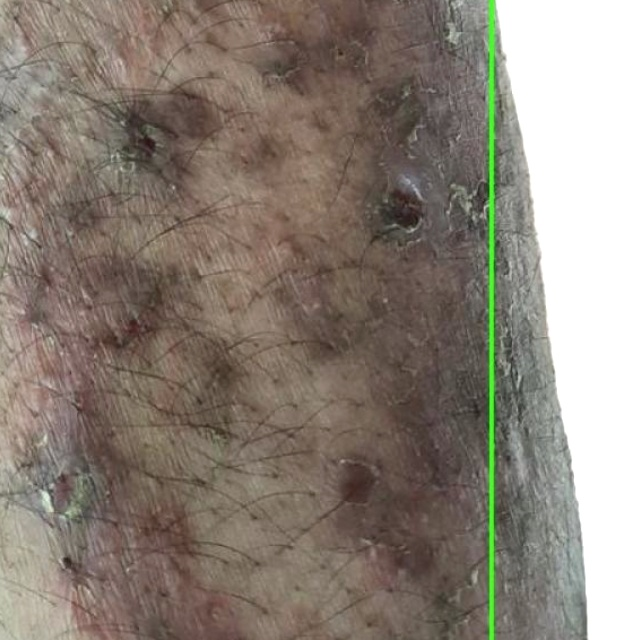Tinea Corporis: (491, 0, 639, 639)
